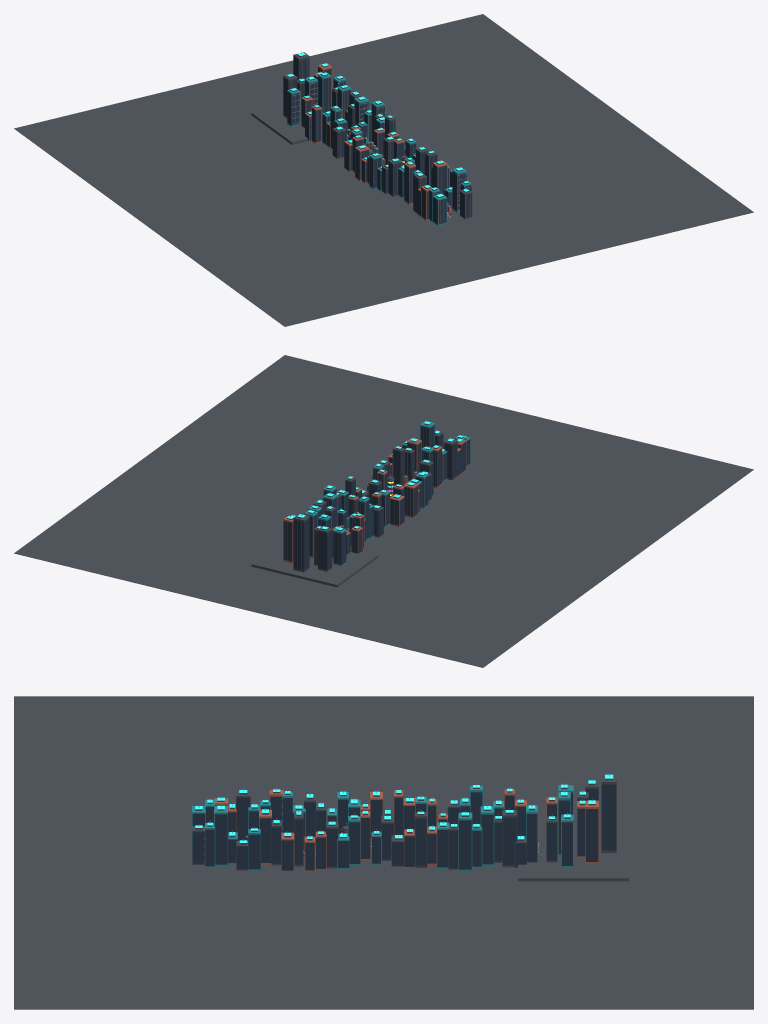
Rendered from city_world.glb.
3 views of the same model, one above another, from view 1: azimuth 30°, elevation 25°; view 2: azimuth 150°, elevation 25°; view 3: azimuth 270°, elevation 25° (orthographic). The views are drawn at different scales.
Visible parts, largest first — view 1: City_Buildings_Master; view 2: City_Buildings_Master; view 3: City_Buildings_Master.
Part boxes in pixels (x1,y1,x2,y2): City_Buildings_Master: (14, 14, 753, 326); City_Buildings_Master: (14, 355, 753, 667); City_Buildings_Master: (14, 696, 753, 1009).
Size of the model in its own units: 2400 by 285 by 2400.
